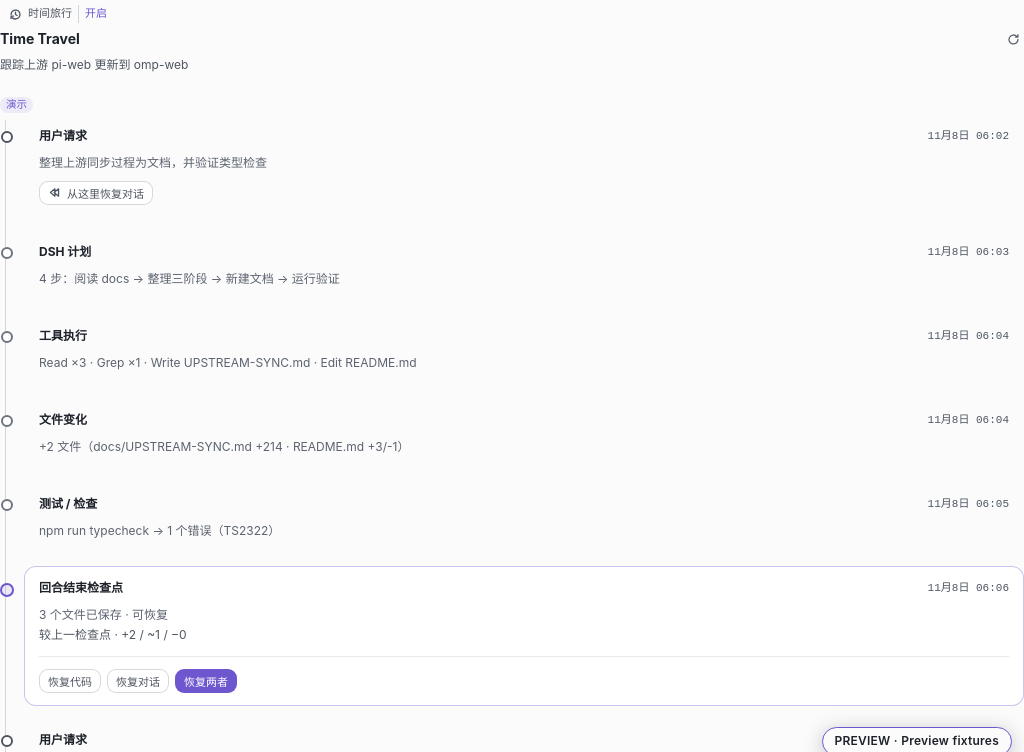
preview enable and restore only change local UI
Click the button "时间旅行 开启" at (58, 14), box 0,0 -> 116,28
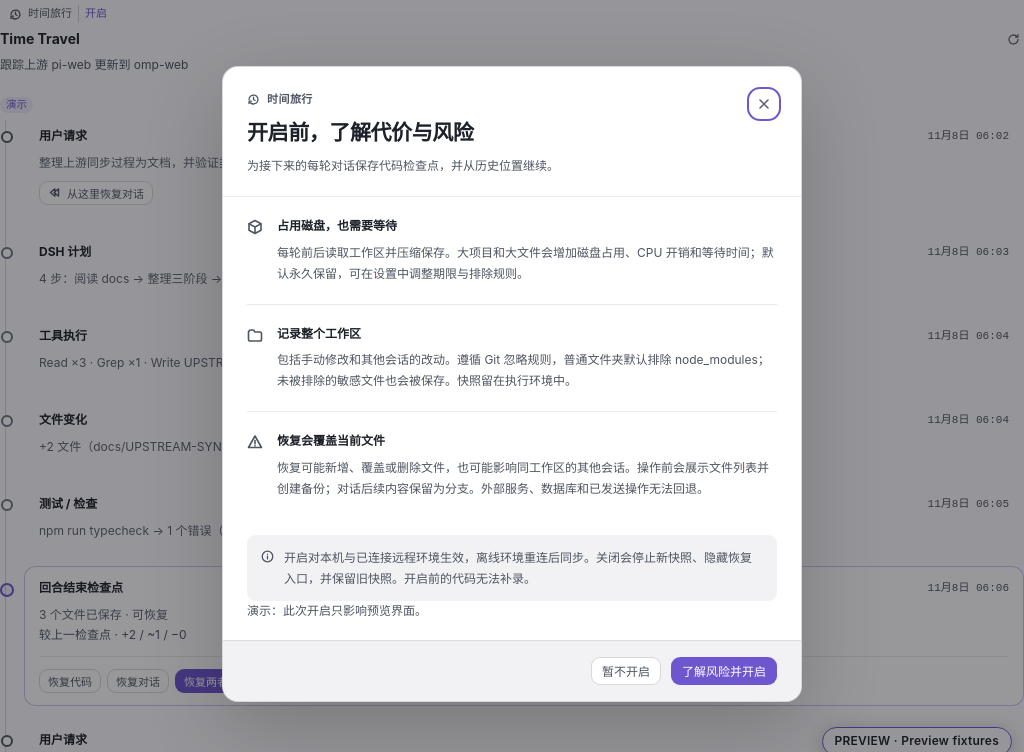
Click the button "了解风险并开启" at (724, 671), box 671,657 -> 777,685
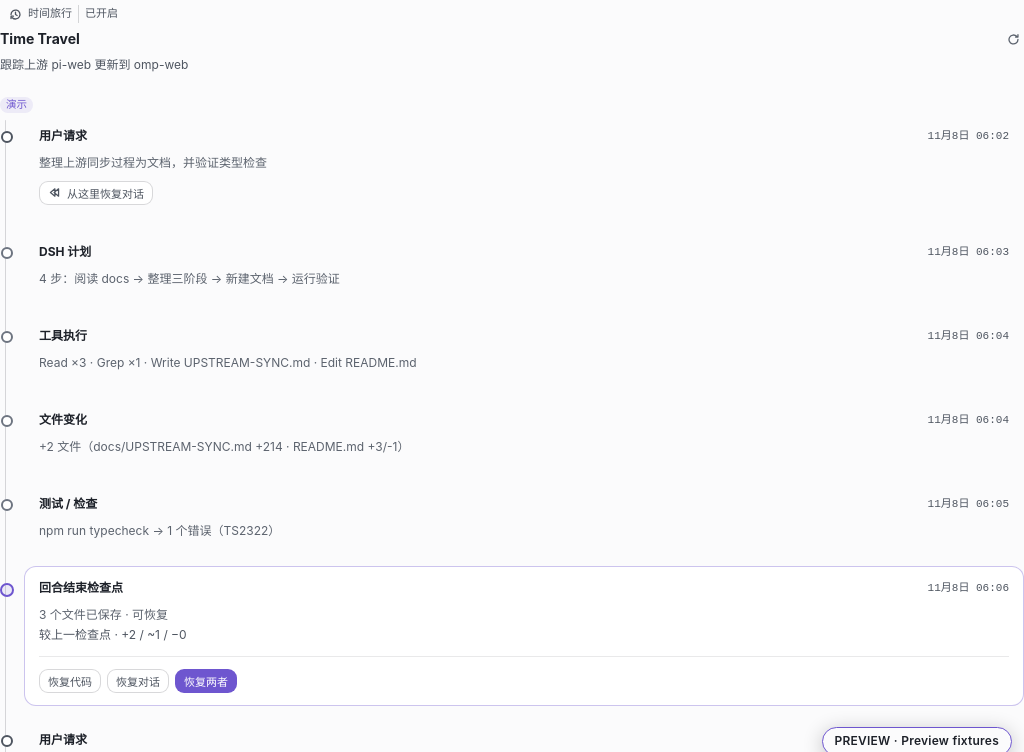
Expected: the dialog is gone
Click the button "恢复代码" at (70, 681), box 39,669 -> 101,693
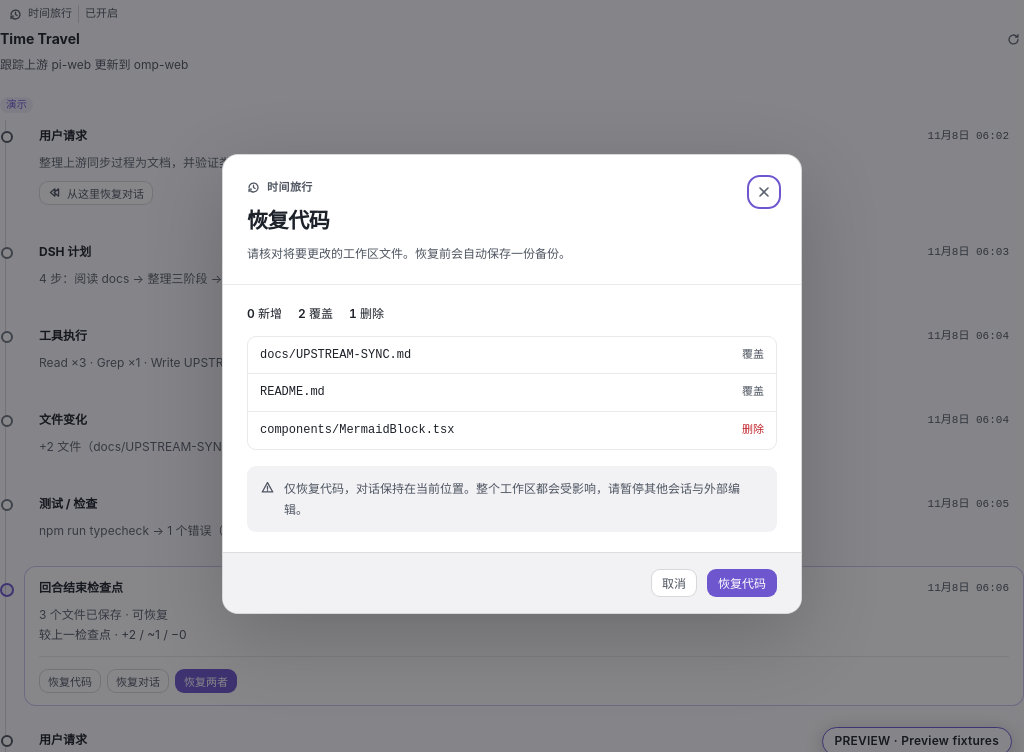
Click the button "恢复代码" at (742, 583), box 707,569 -> 777,597
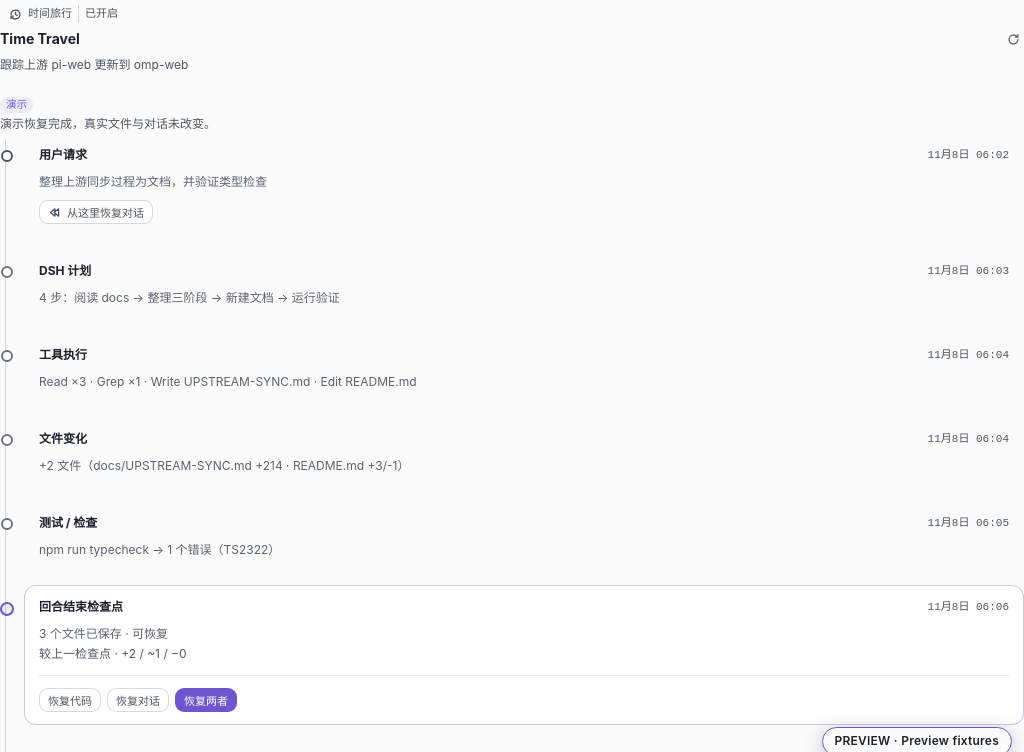
Expected: the text "演示恢复完成，真实文件与对话未改变。" is shown, 0,116 -> 216,131
